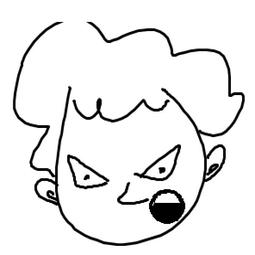ear: (203, 140, 231, 185), (32, 177, 62, 212)
eye: (140, 138, 184, 187), (66, 152, 111, 192)
open_mouth: (150, 188, 196, 230)
pointy_nose: (112, 181, 149, 215)
